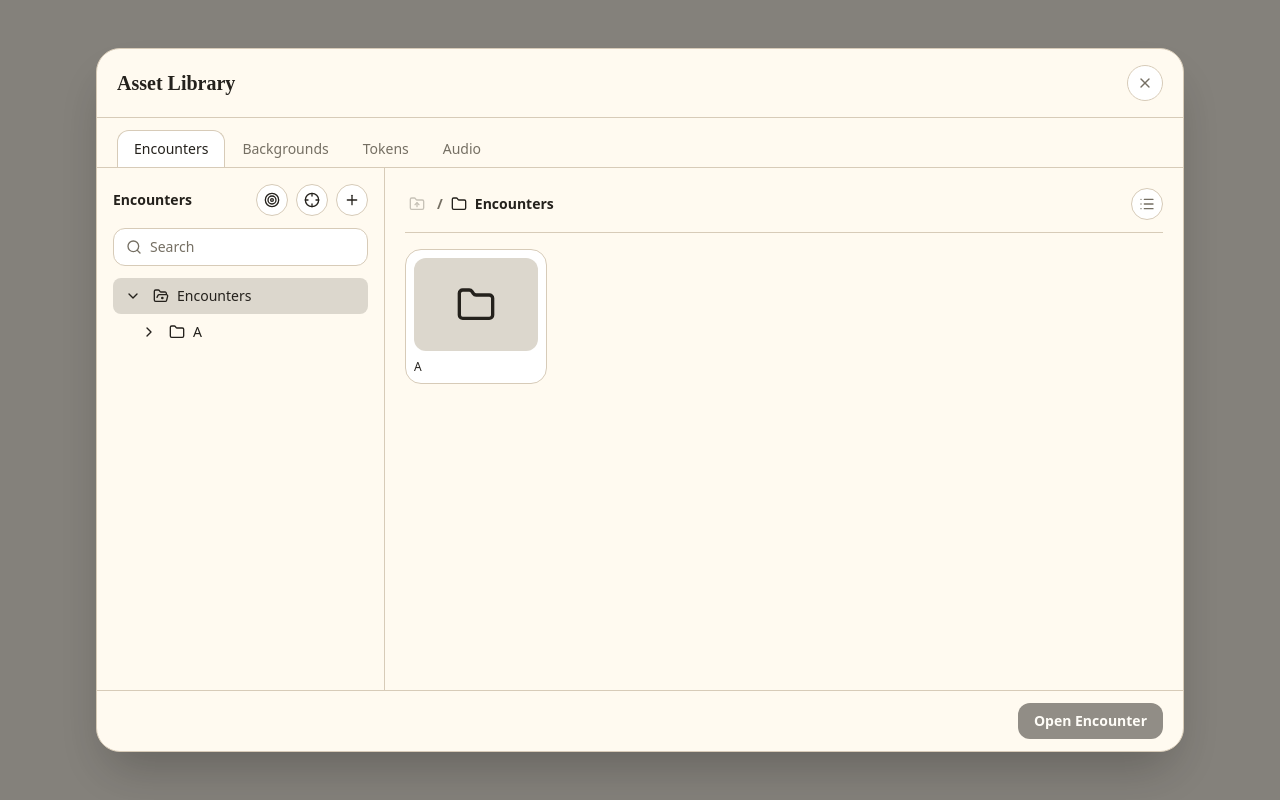
Test: AssetLibraryModal active encounter locator › navigates to an encounter's folder when selecting it from the explorer
Step 1. Click the button named "Expand A" → (149, 332), box [137, 320, 161, 344]
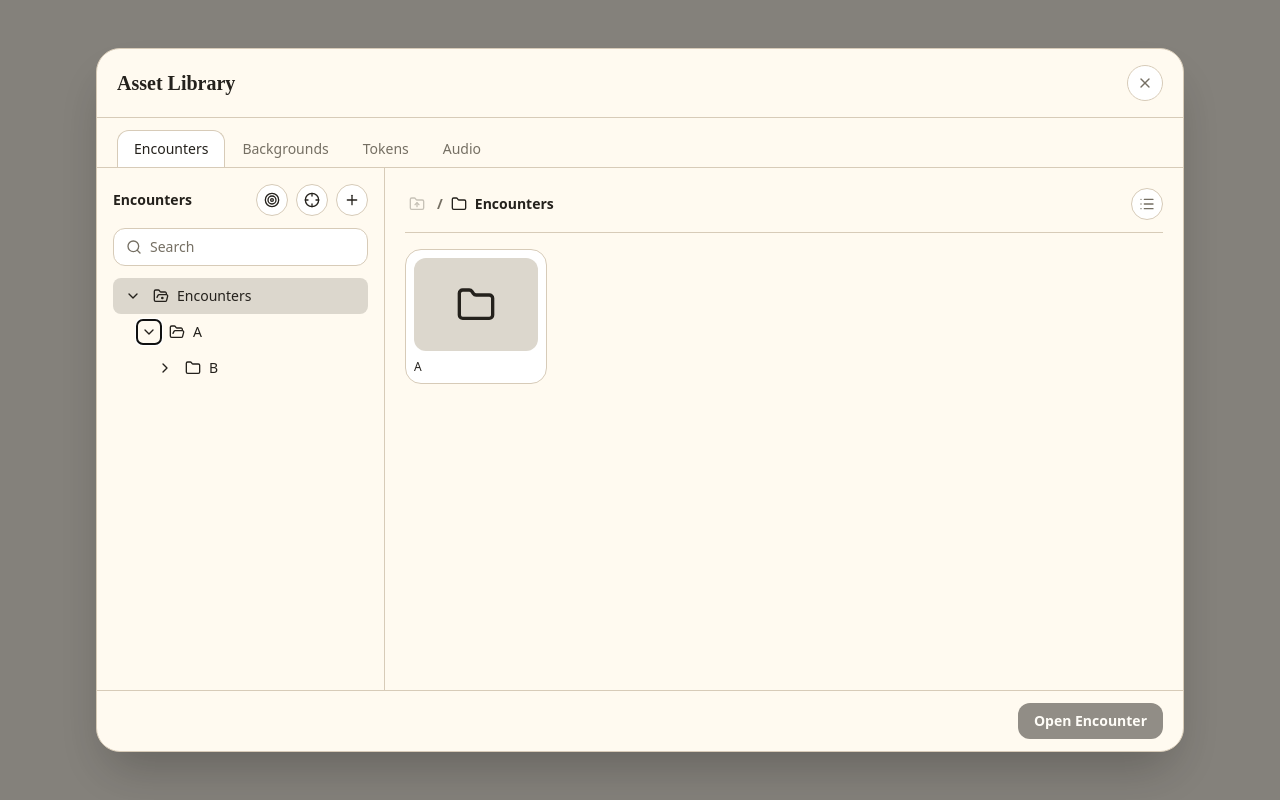
Step 2. Click the button named "Expand B" → (165, 368), box [153, 356, 177, 380]
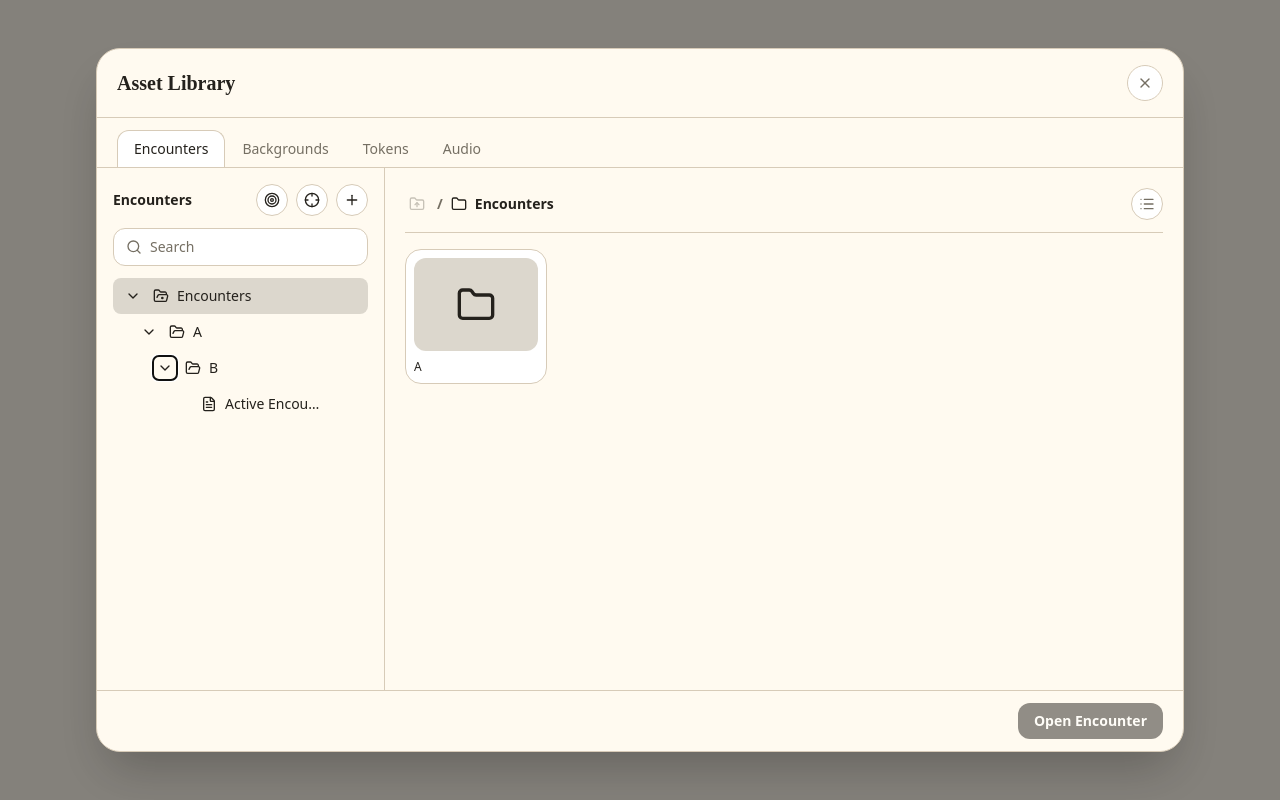
Step 3. Click the text "Active Encounter" → (274, 404), box [225, 394, 324, 414]
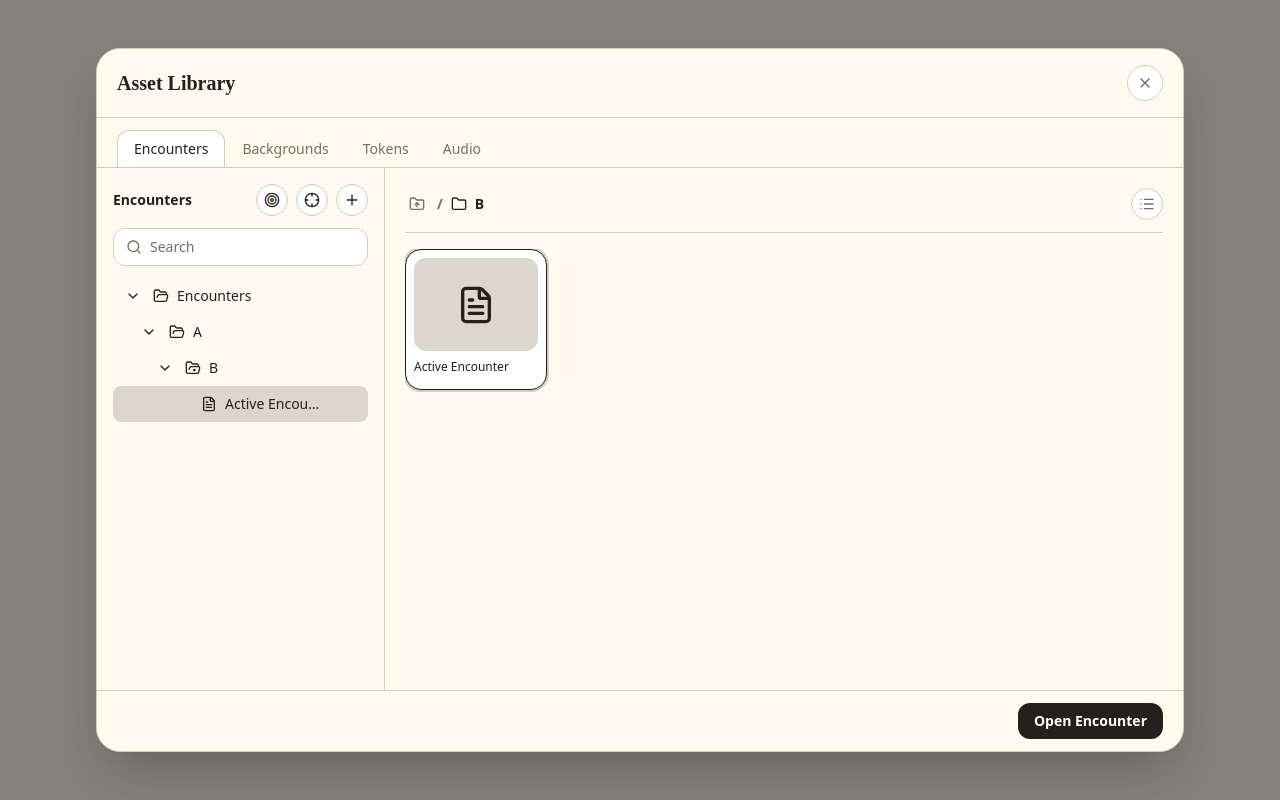
expect the element named "Current asset library folder" reads "B": met, box [475, 194, 484, 213]
expect the button "Active Encounter" is shown: met, box [414, 258, 538, 375]
